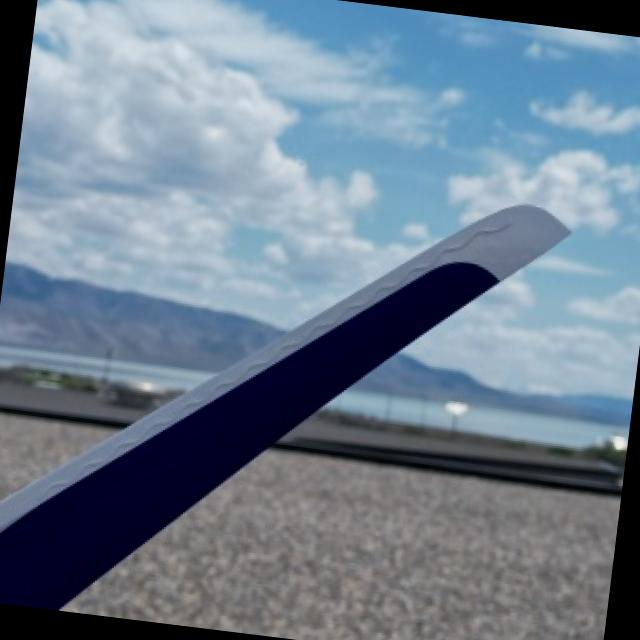healthy: (0, 203, 569, 608)
